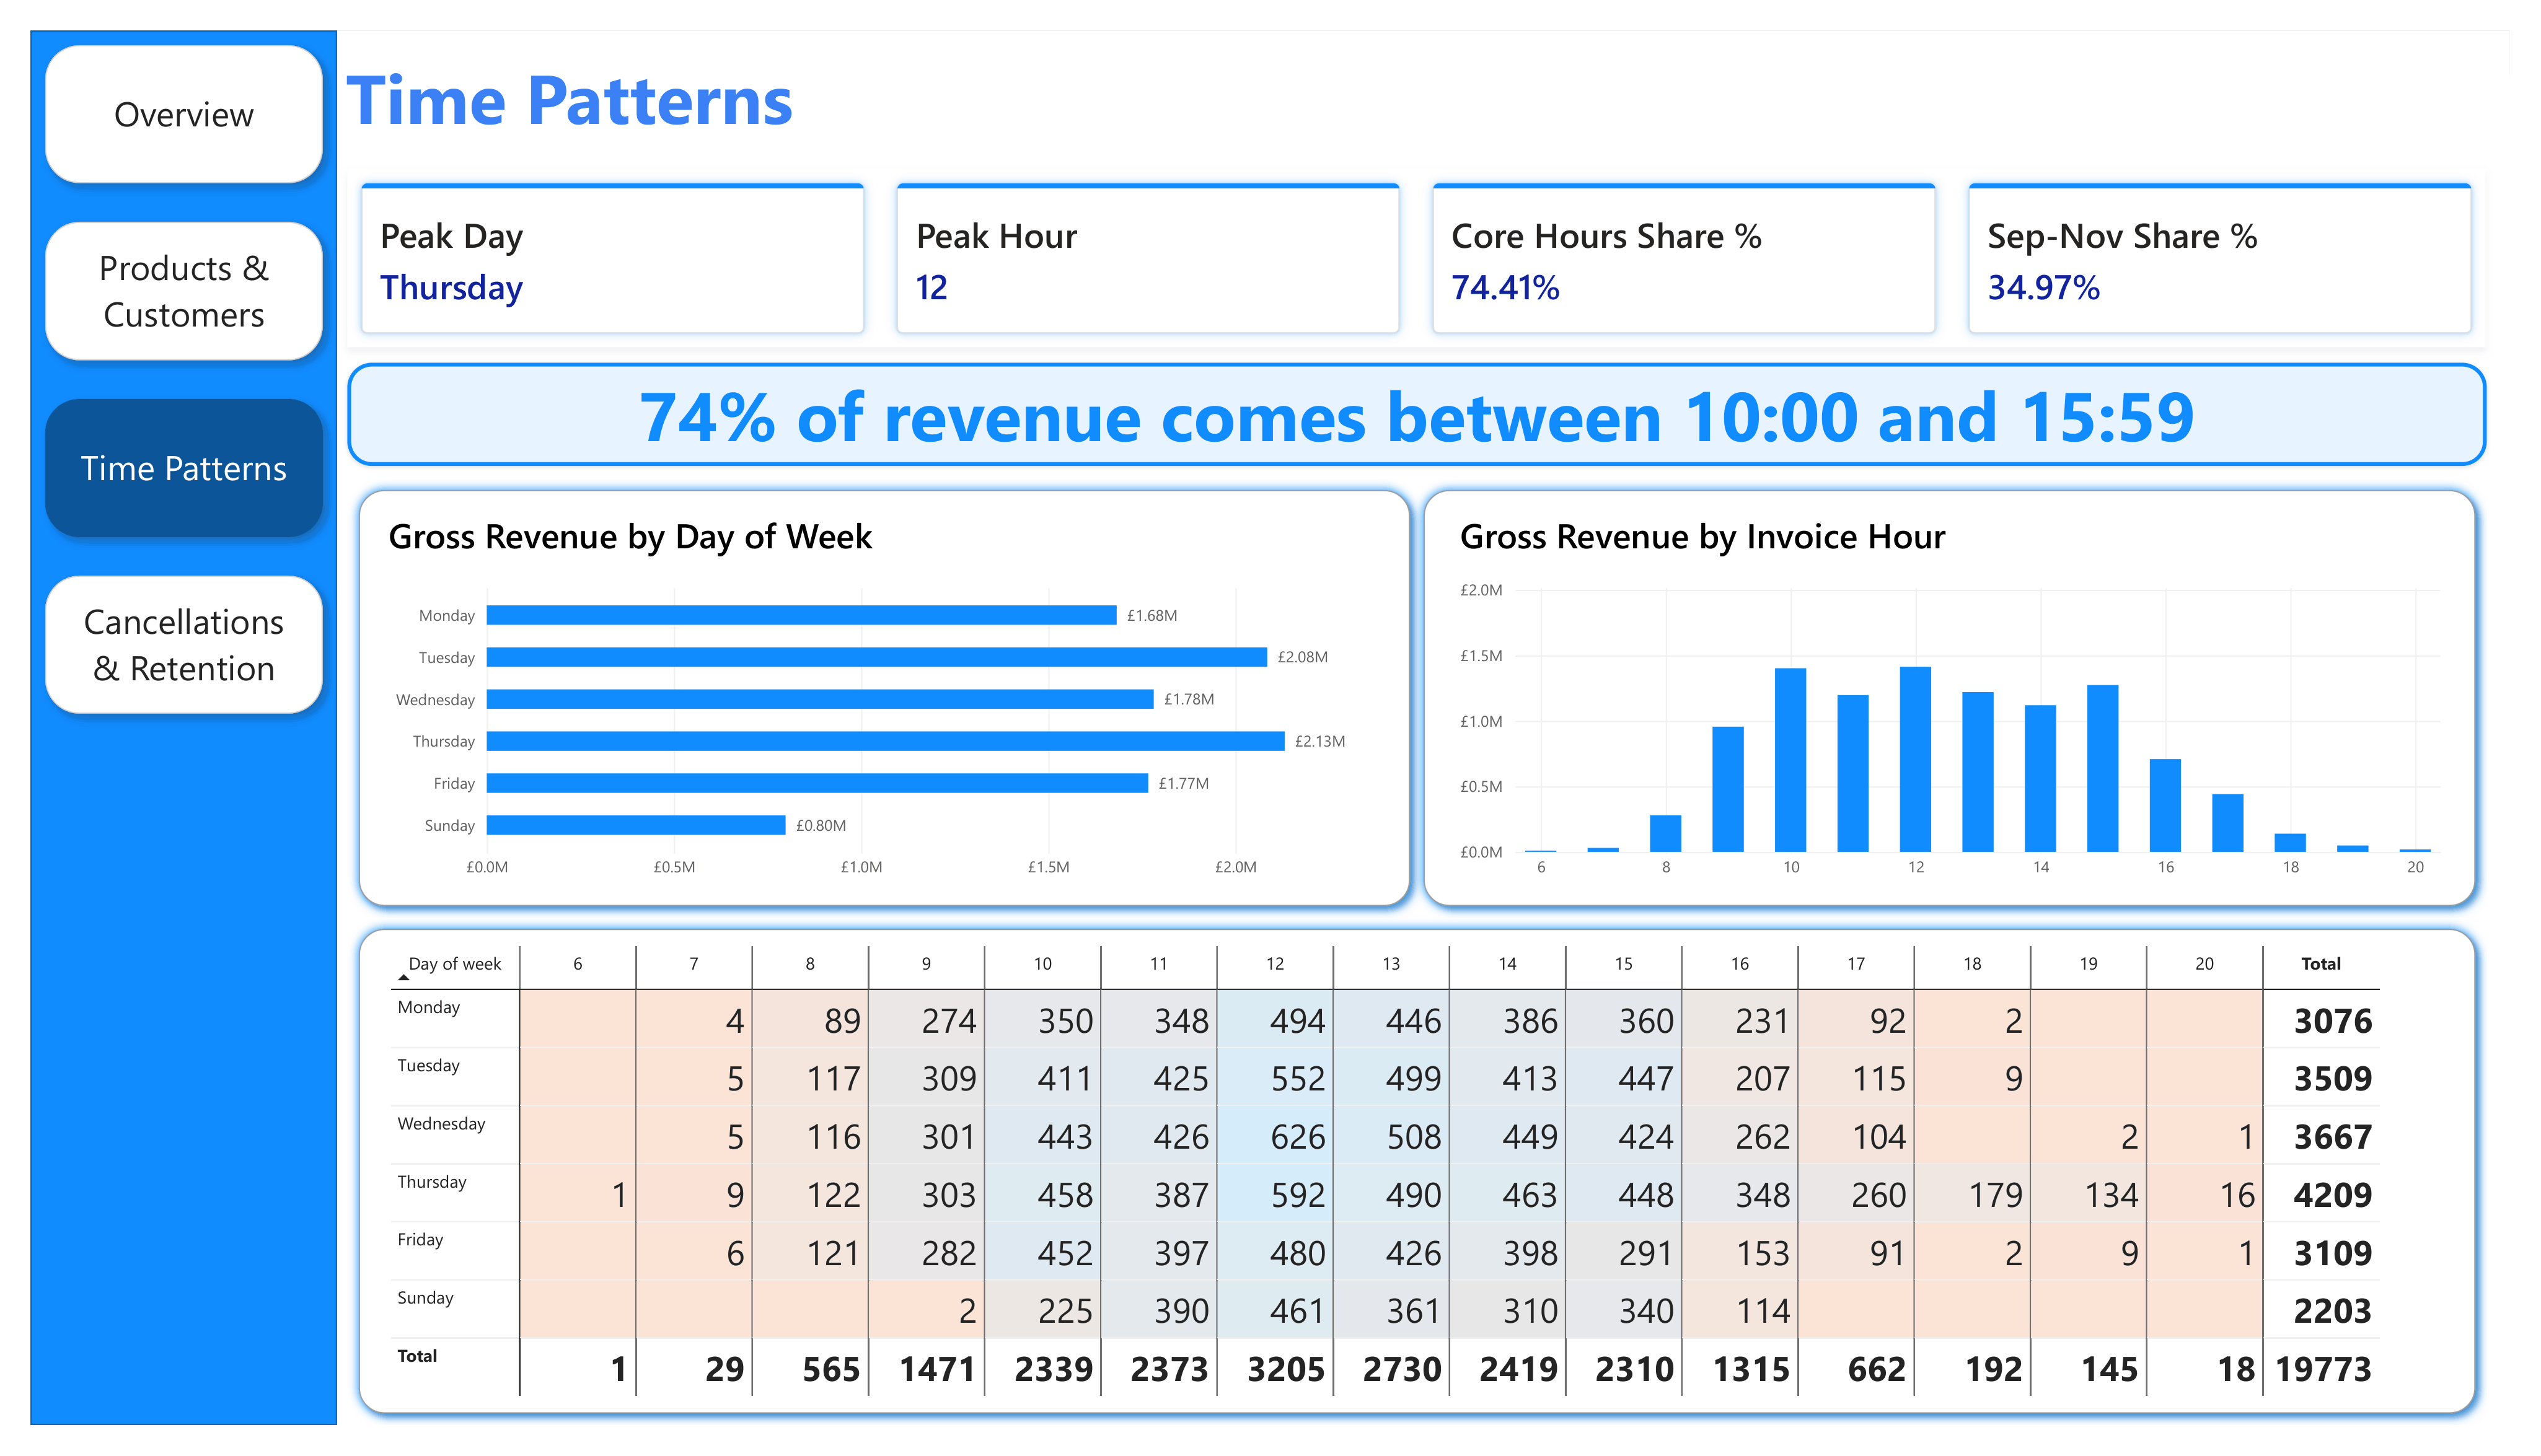

The dashboard page shown, as its layout file describes it:
{"tool":"powerbi","page":{"name":"Time Patterns","canvas":[1920,1080],"ordinal":2},"visuals":[{"type":"shape","box":[245,686.7,1656.7,393.3],"z":0},{"type":"shape","box":[0,0,237.1,1080],"z":1000},{"type":"pageNavigator","box":[0,0,237.1,540],"z":2000},{"type":"textbox","box":[244.3,14.3,825.7,72.9],"z":3000},{"type":"cardVisual","fields":{"Data":["_Measures (2).Peak Day","_Measures (2).Peak Hour","_Measures (2).Core Hours Share %","_Measures (2).Sep-Nov Share %"]},"box":[245,106.7,1656.1,138.4],"z":4000},{"type":"textbox","box":[245,256.7,1656.7,80],"z":5000},{"type":"shape","box":[245,346.7,831.7,340],"z":6000},{"type":"shape","box":[1070,346.7,831.7,340],"z":7000},{"type":"clusteredBarChart","title":"Gross Revenue by Day of Week","fields":{"Category":["ecommerce_analytics online_retail.day_of_week"],"Y":["_Measures (2).Gross Revenue"]},"box":[265,360,783.3,313.3],"z":8000},{"type":"clusteredColumnChart","title":"Gross Revenue by Invoice Hour","fields":{"Category":["ecommerce_analytics online_retail.invoice_hour"],"Y":["_Measures (2).Gross Revenue"]},"box":[1095,360,783.3,313.3],"z":9000},{"type":"pivotTable","fields":{"Columns":["ecommerce_analytics online_retail.invoice_hour"],"Rows":["ecommerce_analytics online_retail.day_of_week"],"Values":["_Measures (2).Orders"]},"box":[266.7,696.7,1606.7,373.3],"z":10000}]}

Visuals, with their boxes on the page's 1920x1080 design canvas (x1, y1, x2, y2). These are canvas units, not pixel positions in the 2541x1456 screenshot, which may show the page scaled, cropped or inside an application window:
shape: [x1=245, y1=687, x2=1902, y2=1080]
shape: [x1=0, y1=0, x2=237, y2=1080]
pageNavigator: [x1=0, y1=0, x2=237, y2=540]
textbox: [x1=244, y1=14, x2=1070, y2=87]
cardVisual - _Measures (2).Peak Day x _Measures (2).Peak Hour: [x1=245, y1=107, x2=1901, y2=245]
textbox: [x1=245, y1=257, x2=1902, y2=337]
shape: [x1=245, y1=347, x2=1077, y2=687]
shape: [x1=1070, y1=347, x2=1902, y2=687]
"Gross Revenue by Day of Week" clusteredBarChart: [x1=265, y1=360, x2=1048, y2=673]
"Gross Revenue by Invoice Hour" clusteredColumnChart: [x1=1095, y1=360, x2=1878, y2=673]
pivotTable - ecommerce_analytics online_retail.invoice_hour x ecommerce_analytics online_retail.day_of_week: [x1=267, y1=697, x2=1873, y2=1070]
